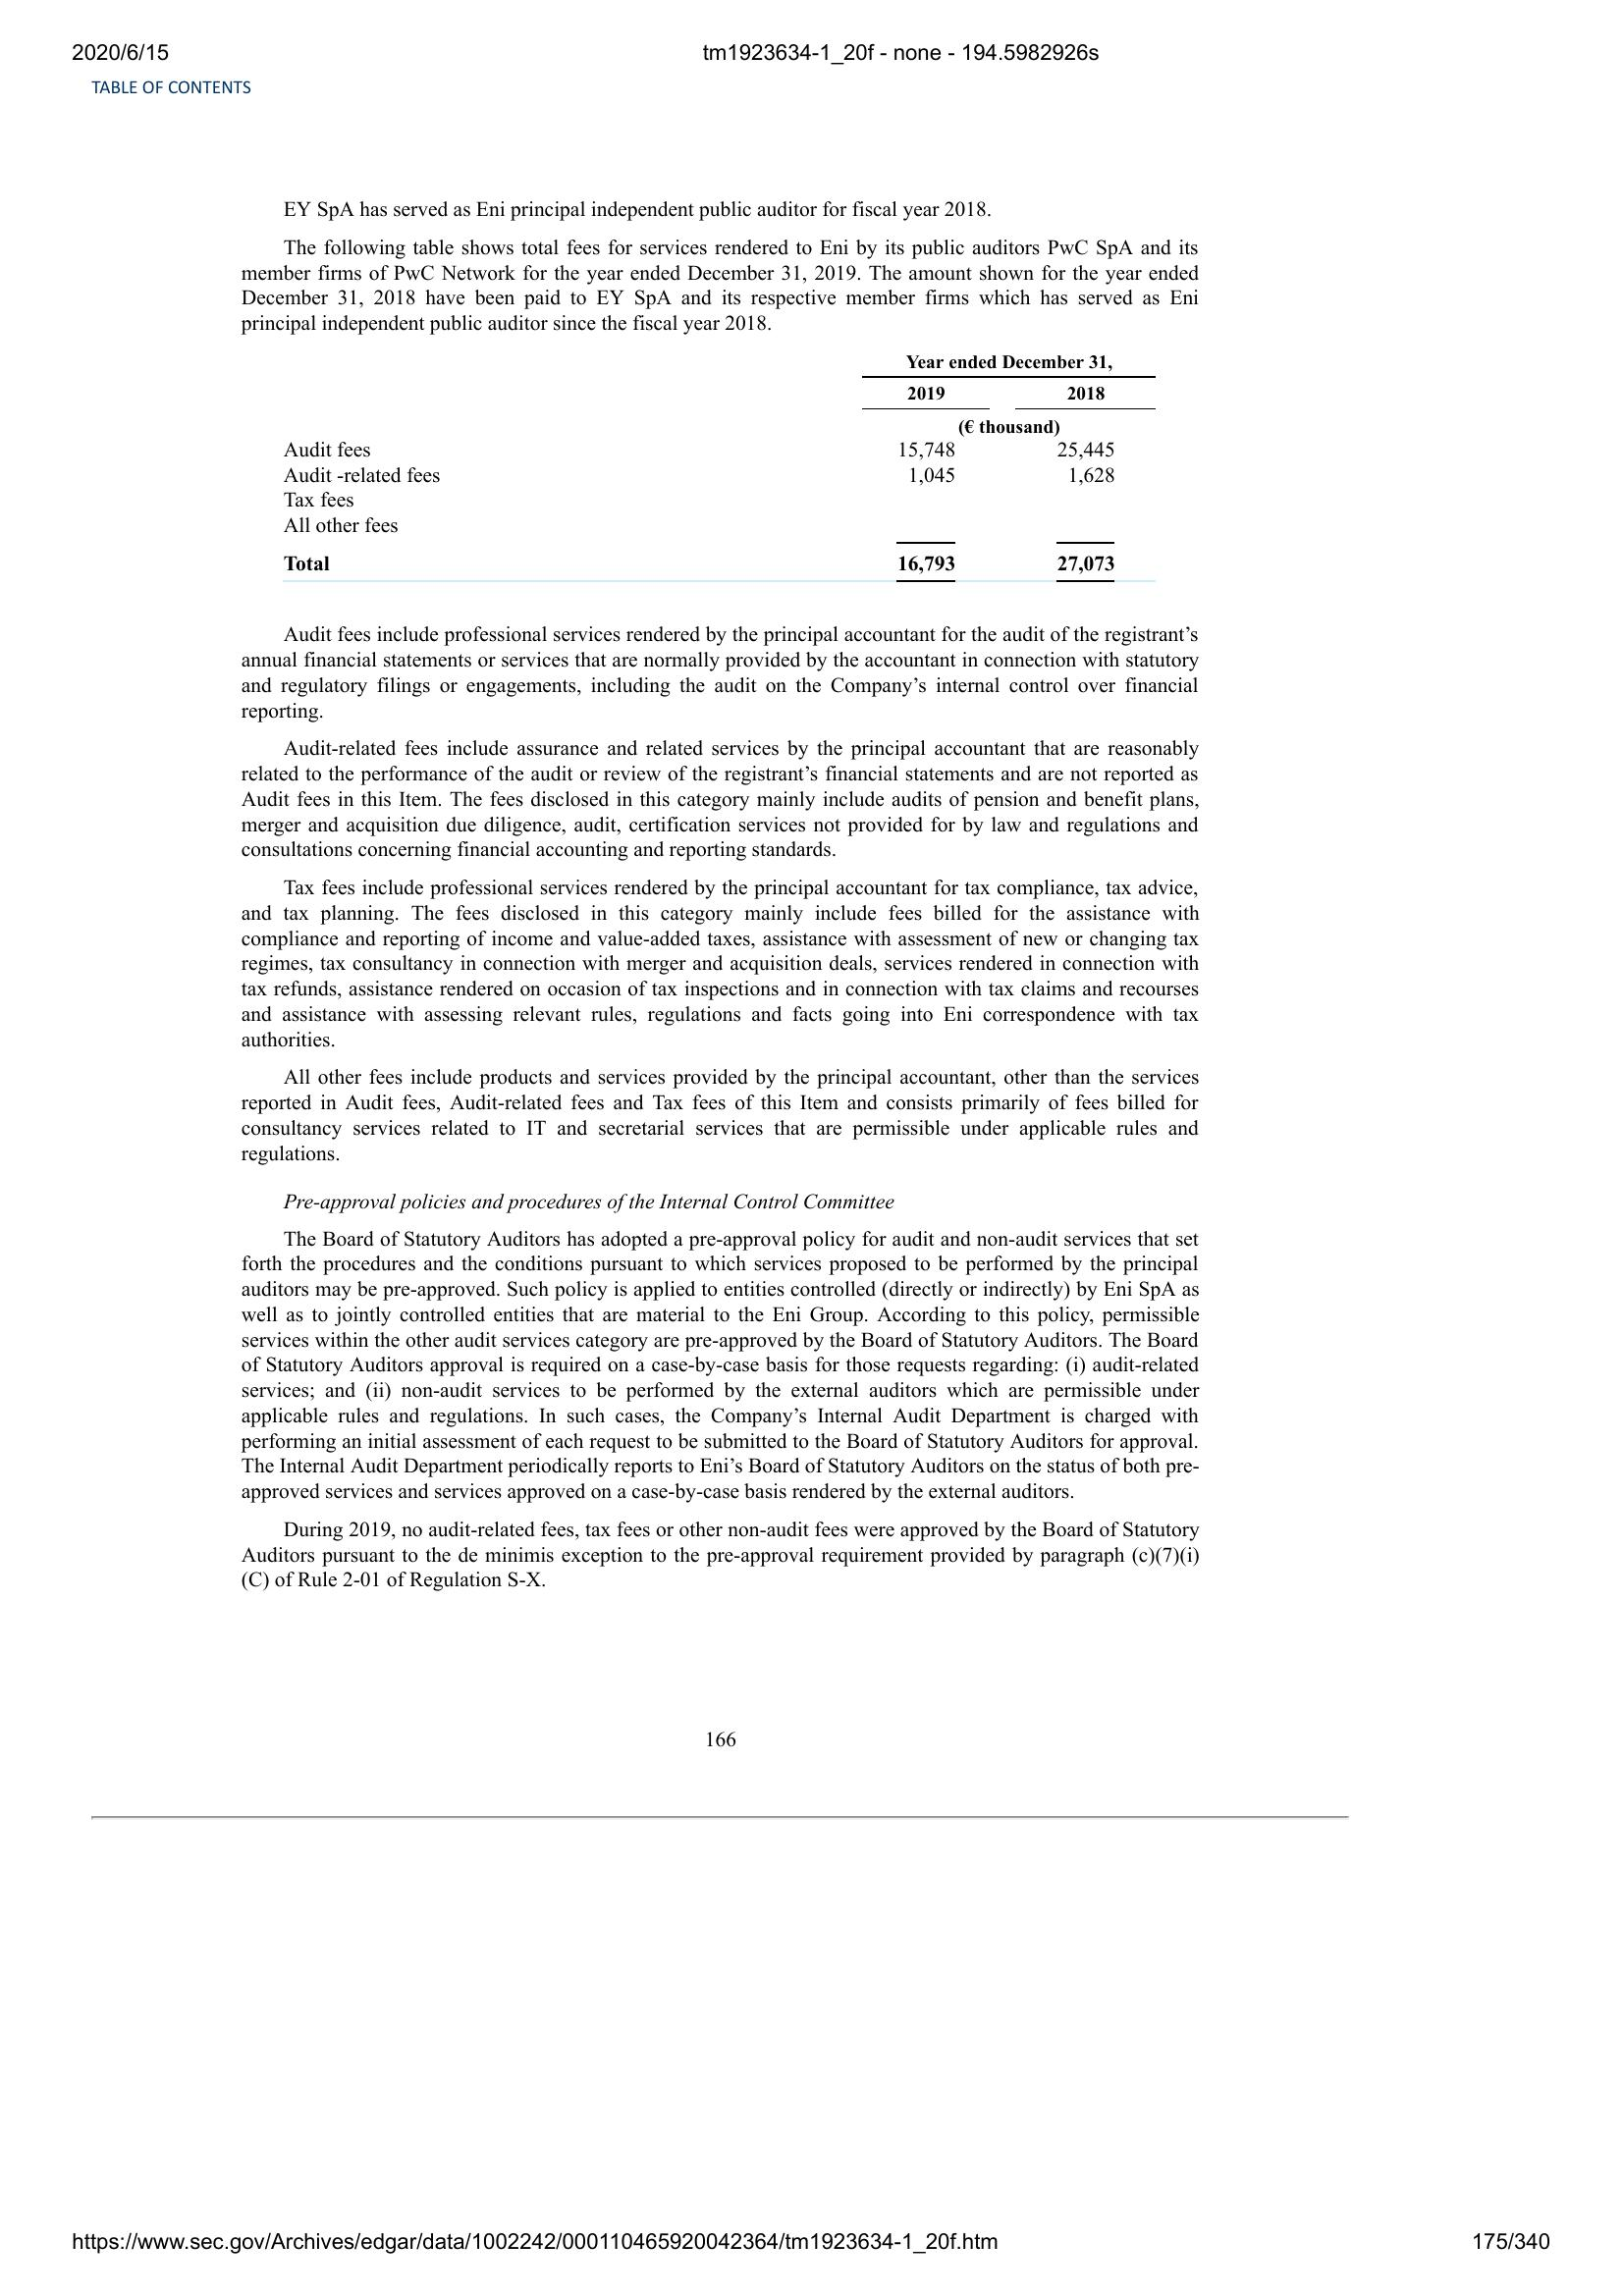table: (276, 348, 1161, 590)
